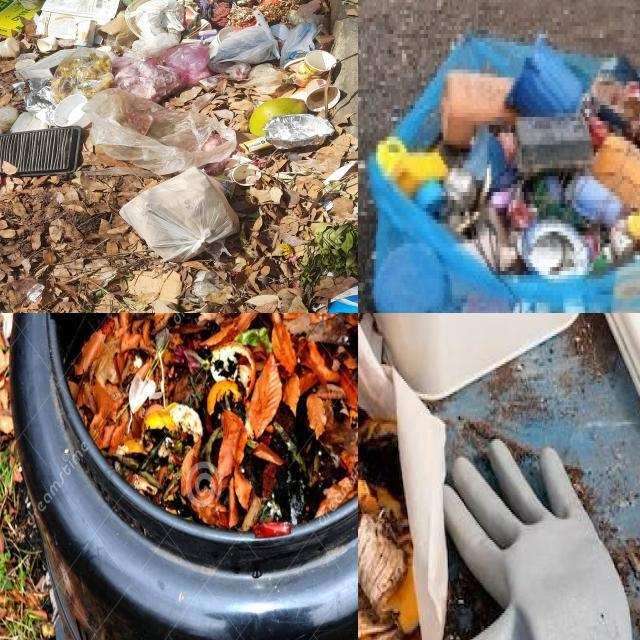Garbage: (358, 313, 640, 640), (68, 313, 358, 537), (376, 36, 640, 278)
Plastic: (506, 36, 582, 116), (376, 135, 449, 196)
contaminated_waste: (439, 424, 640, 640), (373, 313, 582, 405)
